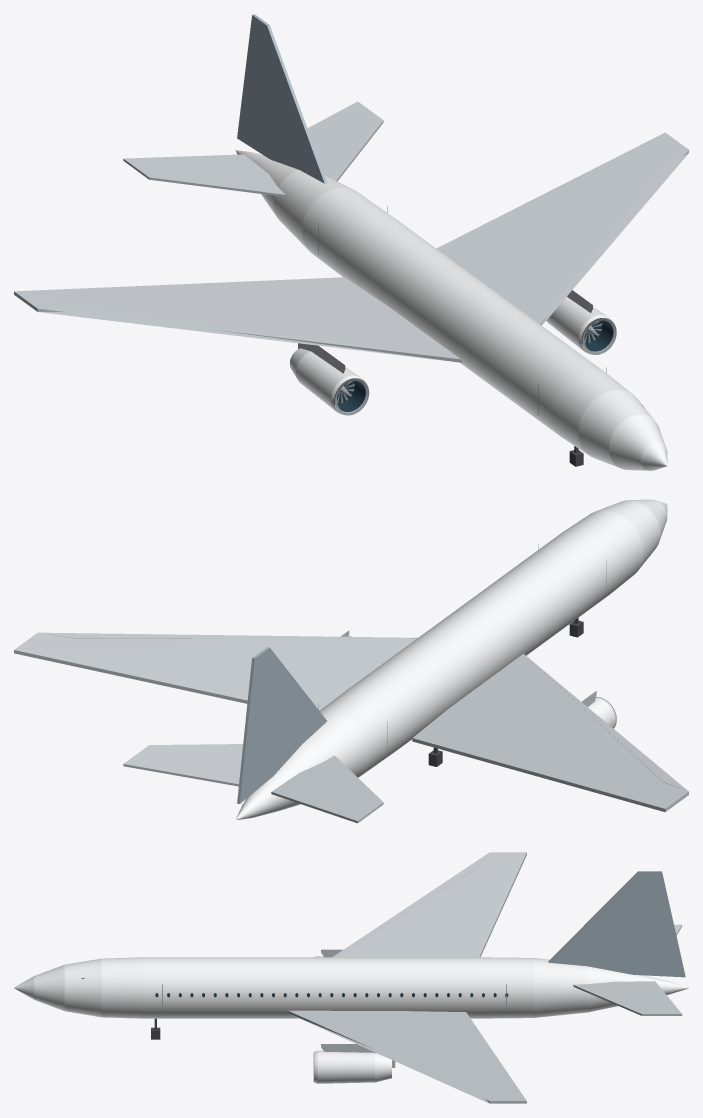
The model's file is b767-neutral-v2.gltf.
3 views of the same model, one above another, from view 1: azimuth 30°, elevation 25°; view 2: azimuth 150°, elevation 25°; view 3: azimuth 270°, elevation 25° (orthographic). The views are drawn at different scales.
Parts seen in each view (by area): view 1: object 1; view 2: object 1; view 3: object 1.
Part boxes in pixels (x1,y1,x2,y2): object 1: (14, 14, 688, 470); object 1: (14, 499, 688, 823); object 1: (14, 852, 688, 1103).
Size of the model in its own units: 48 by 14.98 by 55.
